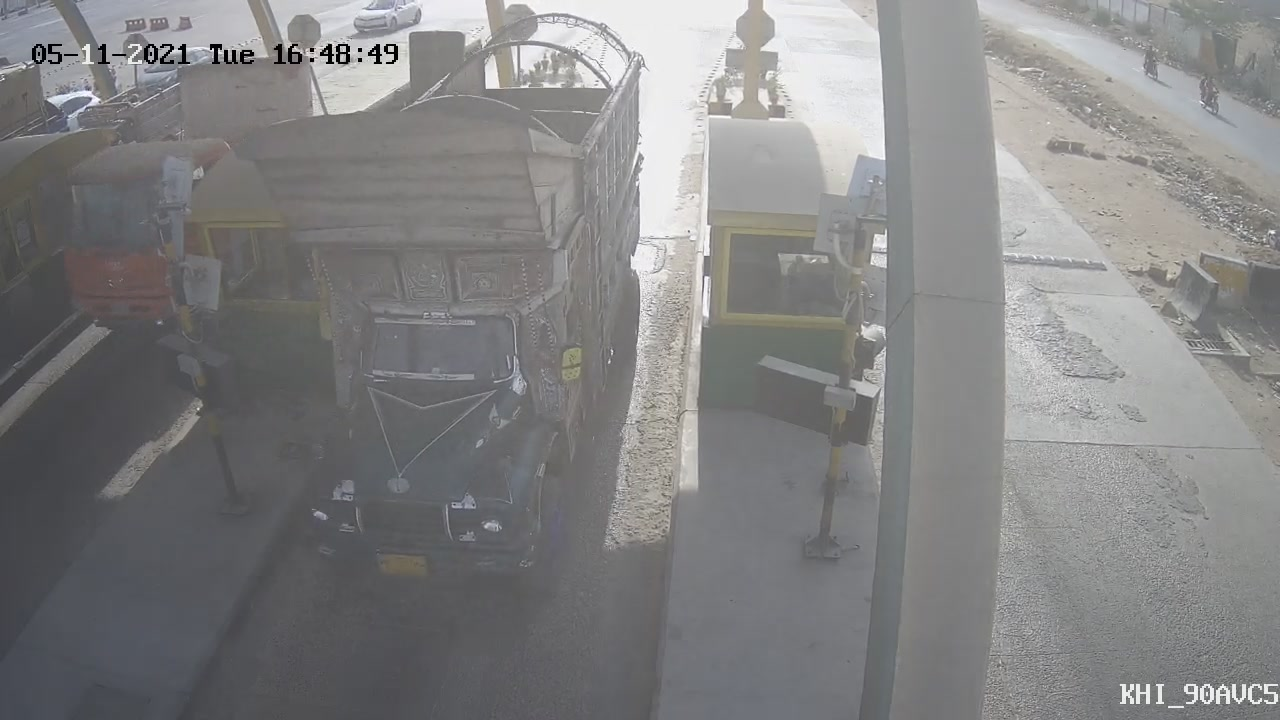F5: (211, 7, 677, 646)
